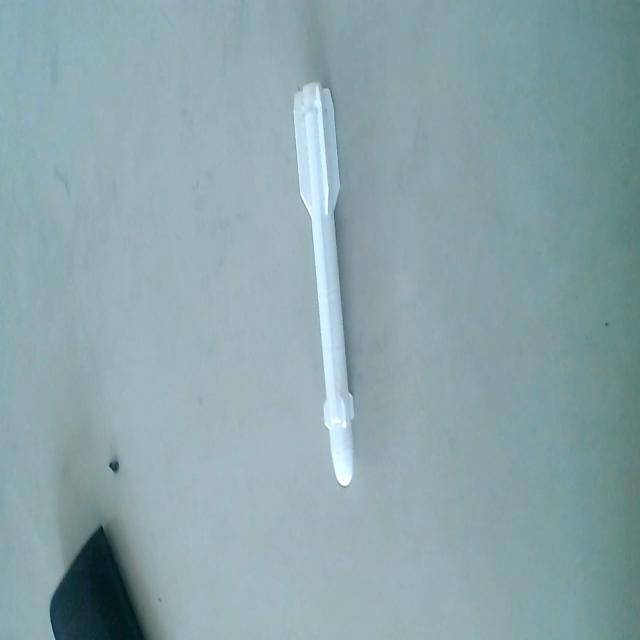Rocket: (290, 76, 358, 497)
